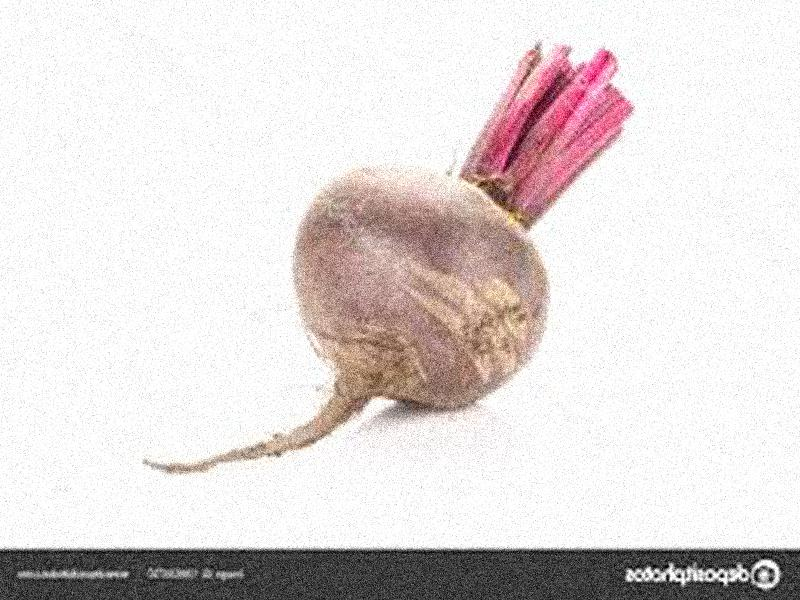Beet: (142, 44, 629, 472)
